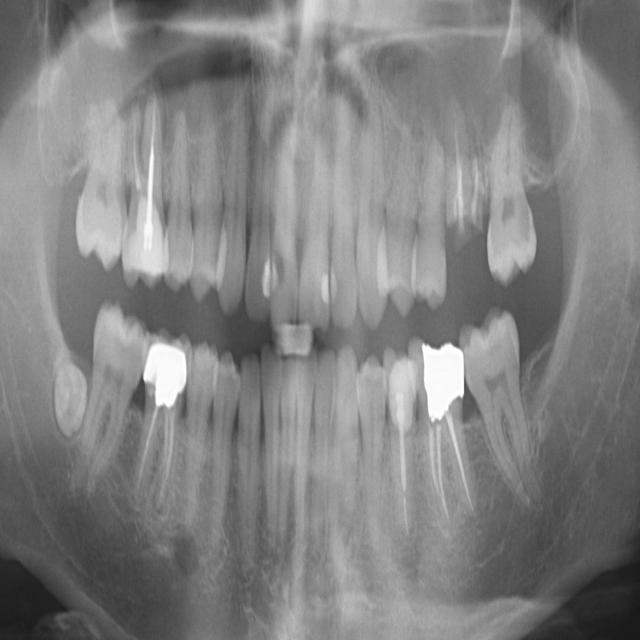infected-teeth: (120, 71, 173, 296), (132, 327, 192, 524), (418, 340, 476, 532), (382, 345, 424, 554)
